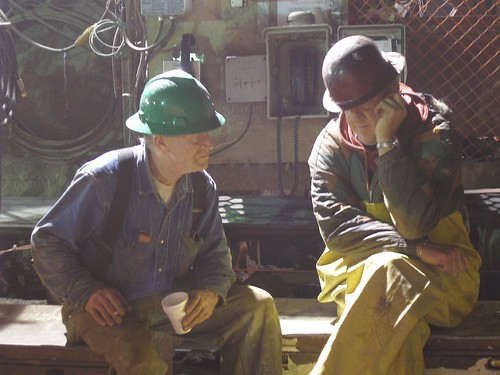person hardhat: (32, 69, 286, 375), (302, 31, 481, 374)
